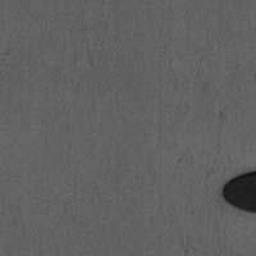Punching: (222, 171, 256, 213)
